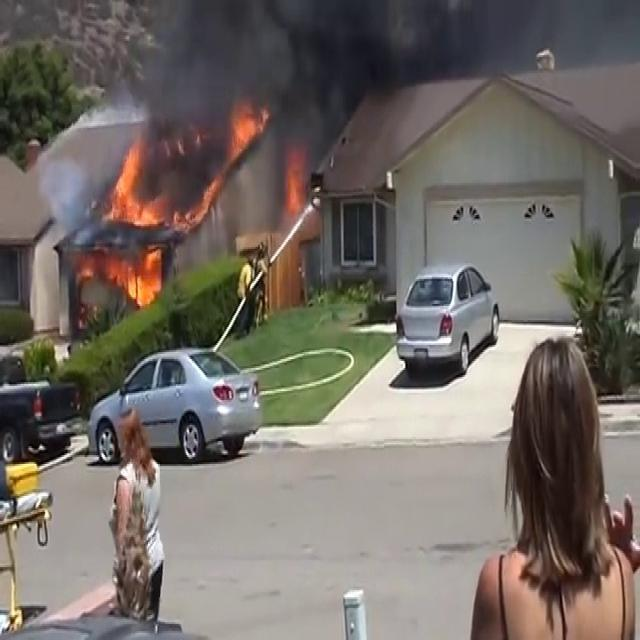Fire: (104, 141, 170, 224), (78, 246, 164, 308), (224, 100, 265, 158), (192, 168, 220, 224)
Smoke: (109, 0, 432, 164)
